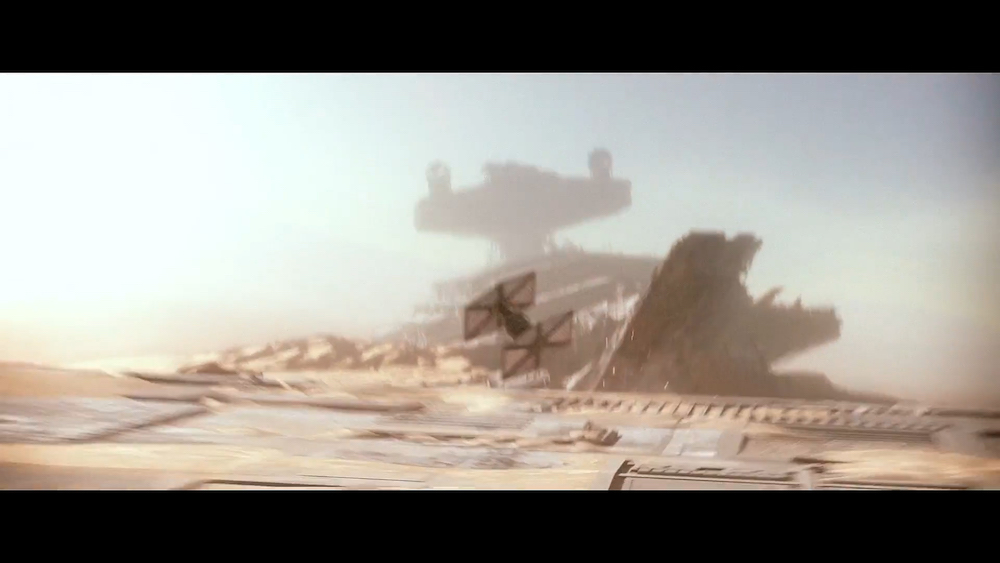Tie Fighter: (462, 272, 576, 382)
